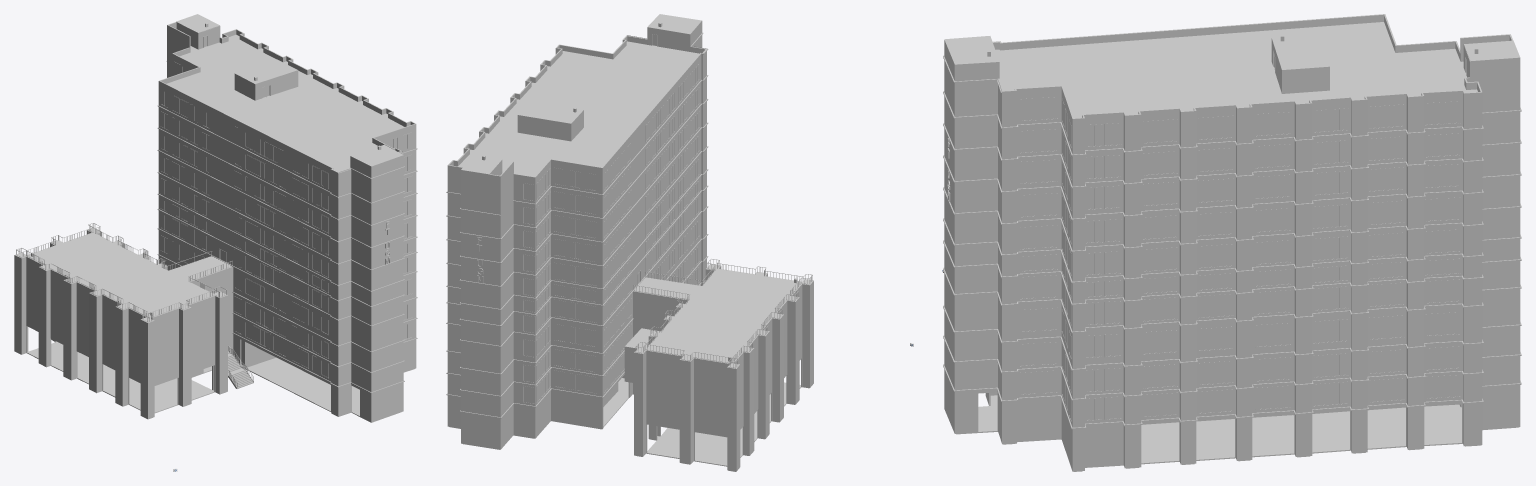
File: SGLC_centered.glb
3 views of the same model, side by side, from view 1: azimuth 30°, elevation 25°; view 2: azimuth 150°, elevation 25°; view 3: azimuth 270°, elevation 25° (orthographic). The views are drawn at different scales.
Parts seen in each view (by area): view 1: 3DGeom-53, 3DGeom-1795, 3DGeom-2, 3DGeom-901, 3DGeom-38, 3DGeom-107, 3DGeom-39, 3DGeom-8, 3DGeom-61, 3DGeom-57, 3DGeom-6507, 3DGeom-52 (+27 smaller); view 2: 3DGeom-1795, 3DGeom-53, 3DGeom-41, 3DGeom-901, 3DGeom-45, 3DGeom-43, 3DGeom-42, 3DGeom-35, 3DGeom-107, 3DGeom-91, 3DGeom-87, 3DGeom-44 (+27 smaller); view 3: 3DGeom-1795, 3DGeom-3, 3DGeom-6441, 3DGeom-107, 3DGeom-7, 3DGeom-11, 3DGeom-23, 3DGeom-34, 3DGeom-27, 3DGeom-13, 3DGeom-25, 3DGeom-19 (+26 smaller).
Boxes of the visible parts, x1,y1,x2,y2 form: 3DGeom-53: [158, 80, 333, 411]; 3DGeom-1795: [166, 34, 404, 171]; 3DGeom-2: [370, 155, 403, 422]; 3DGeom-901: [16, 228, 231, 322]; 3DGeom-38: [350, 156, 370, 422]; 3DGeom-107: [20, 341, 414, 422]; 3DGeom-39: [337, 167, 351, 416]; 3DGeom-8: [373, 123, 416, 372]; 3DGeom-61: [149, 308, 178, 404]; 3DGeom-57: [186, 295, 215, 391]; 3DGeom-6507: [16, 223, 232, 321]; 3DGeom-52: [332, 169, 337, 416]; 3DGeom-1795: [458, 41, 699, 176]; 3DGeom-53: [601, 53, 701, 429]; 3DGeom-41: [462, 170, 501, 449]; 3DGeom-901: [634, 264, 812, 368]; 3DGeom-45: [551, 159, 601, 428]; 3DGeom-43: [513, 173, 535, 438]; 3DGeom-42: [500, 161, 513, 448]; 3DGeom-35: [448, 165, 462, 428]; 3DGeom-107: [450, 378, 808, 471]; 3DGeom-91: [646, 350, 683, 453]; 3DGeom-87: [693, 357, 729, 460]; 3DGeom-44: [535, 159, 551, 437]; 3DGeom-1795: [995, 22, 1477, 118]; 3DGeom-3: [956, 62, 999, 433]; 3DGeom-6441: [1469, 58, 1520, 429]; 3DGeom-107: [956, 395, 1518, 471]; 3DGeom-7: [1016, 85, 1062, 441]; 3DGeom-11: [1083, 111, 1124, 467]; 3DGeom-23: [1251, 100, 1295, 453]; 3DGeom-34: [1465, 92, 1482, 445]; 3DGeom-27: [1351, 99, 1367, 453]; 3DGeom-13: [1126, 114, 1141, 468]; 3DGeom-25: [1297, 102, 1312, 456]; 3DGeom-19: [1195, 104, 1236, 457].
Size of the model in its own units: 61 by 52.65 by 73.72.
30 materials, 5 textured.
